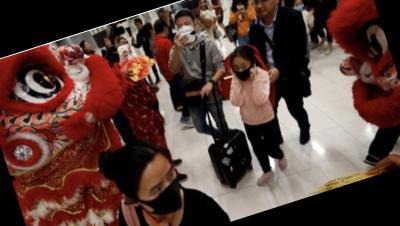with_mask: (133, 163, 190, 221), (229, 56, 256, 86), (175, 18, 198, 43), (119, 47, 140, 74), (293, 1, 307, 13), (120, 39, 132, 53)
without_mask: (83, 41, 92, 51), (104, 38, 113, 47), (136, 21, 145, 30)
